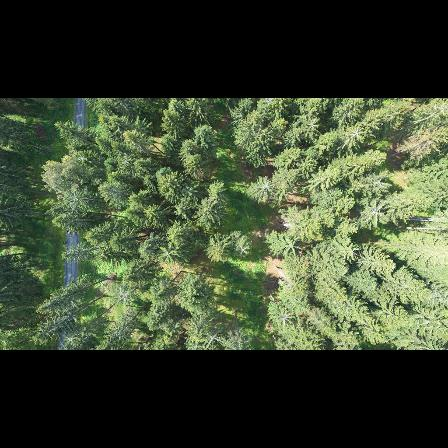Sick: (339, 121, 375, 147), (247, 176, 281, 201), (153, 242, 184, 268), (273, 306, 297, 330)
